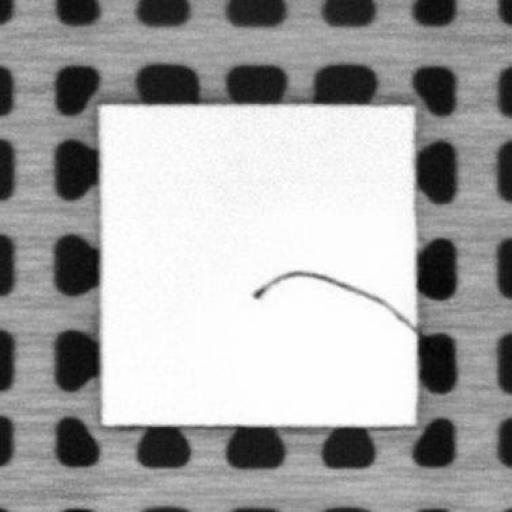DIE_INK: (250, 266, 418, 334)
